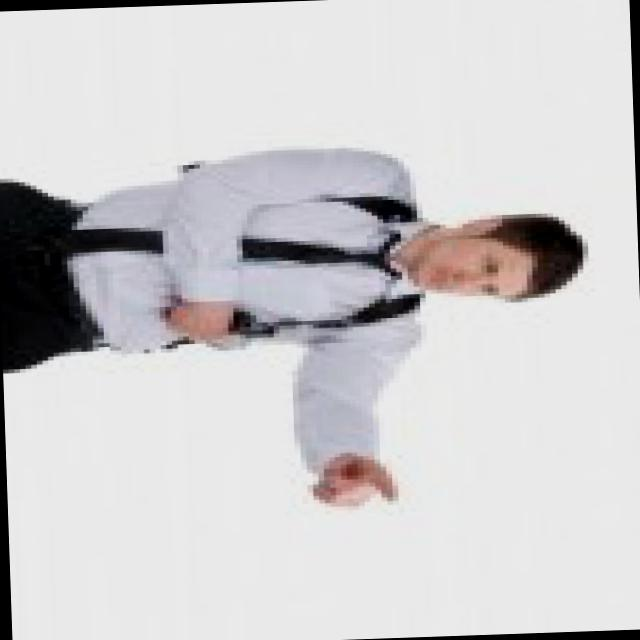handgun: (157, 286, 296, 356)
